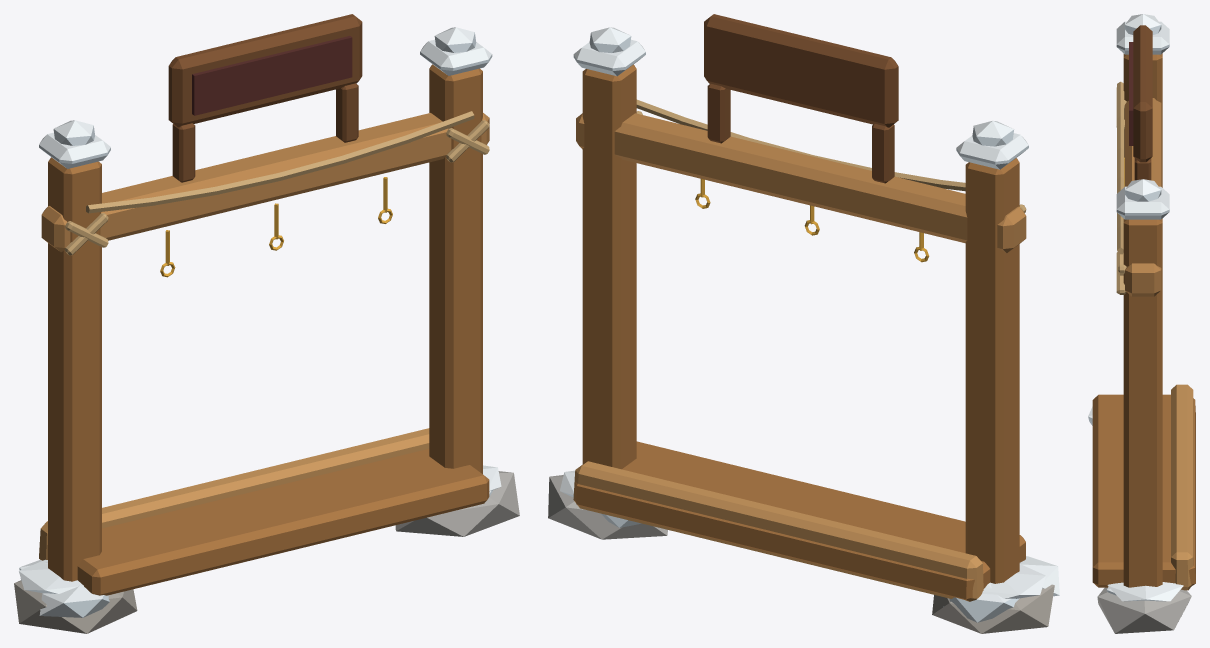
Rendered from catch_display_stand.glb.
3 views of the same model, side by side, from view 1: azimuth 30°, elevation 25°; view 2: azimuth 150°, elevation 25°; view 3: azimuth 270°, elevation 25° (orthographic). The views are drawn at different scales.
Parts seen in each view (by area): view 1: catch_display_stand; view 2: catch_display_stand; view 3: catch_display_stand.
Boxes of the visible parts, x1,y1,x2,y2 form: catch_display_stand: [14, 14, 519, 633]; catch_display_stand: [548, 14, 1059, 633]; catch_display_stand: [1088, 14, 1195, 633].
Size of the model in its own units: 1.82 by 1.9 by 0.3869.
